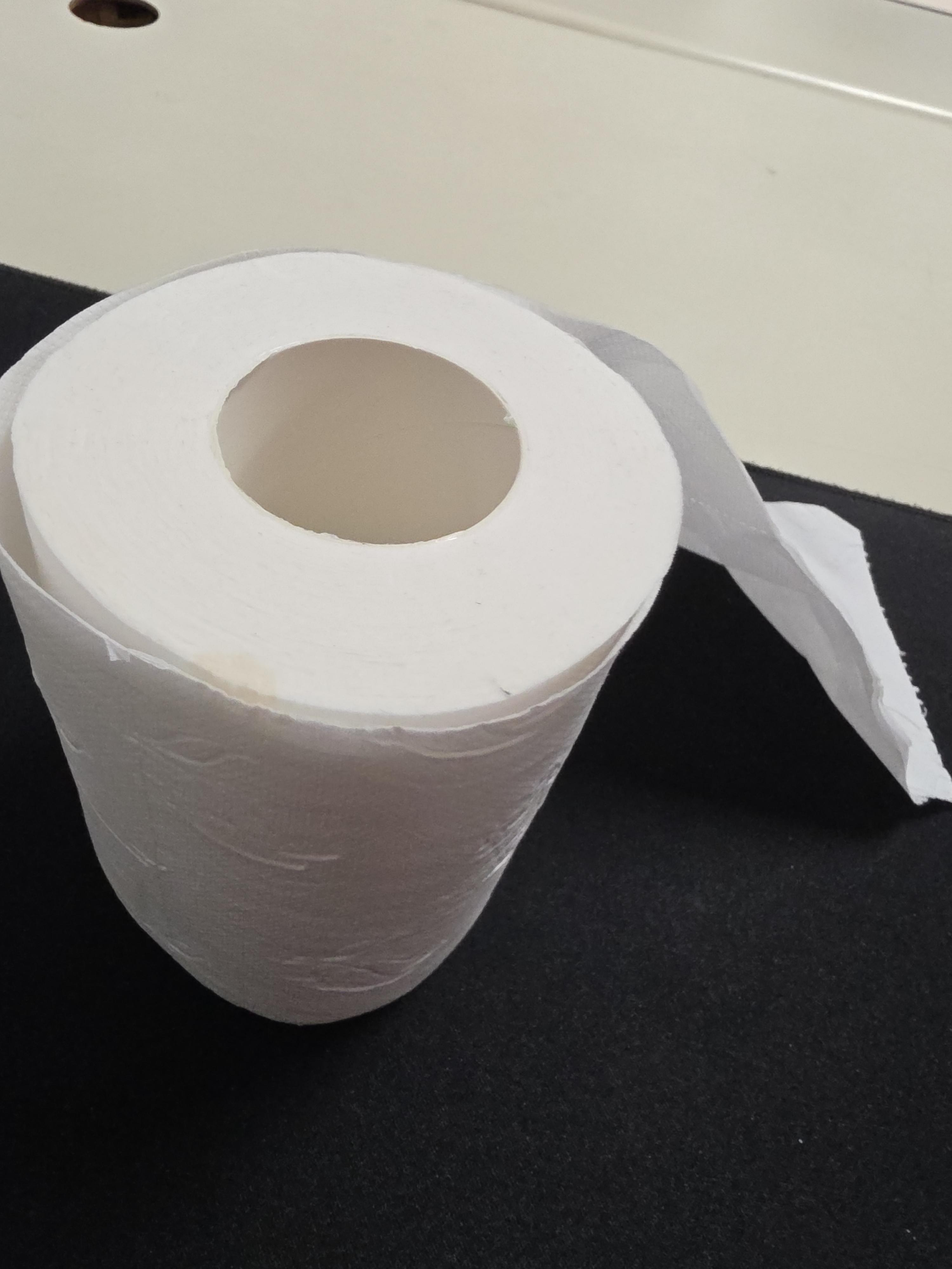tissue: (0, 249, 951, 1025)
